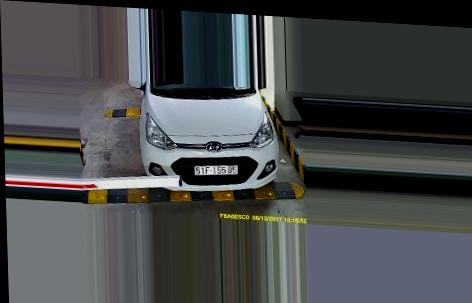License_Plate: (191, 159, 243, 182)
